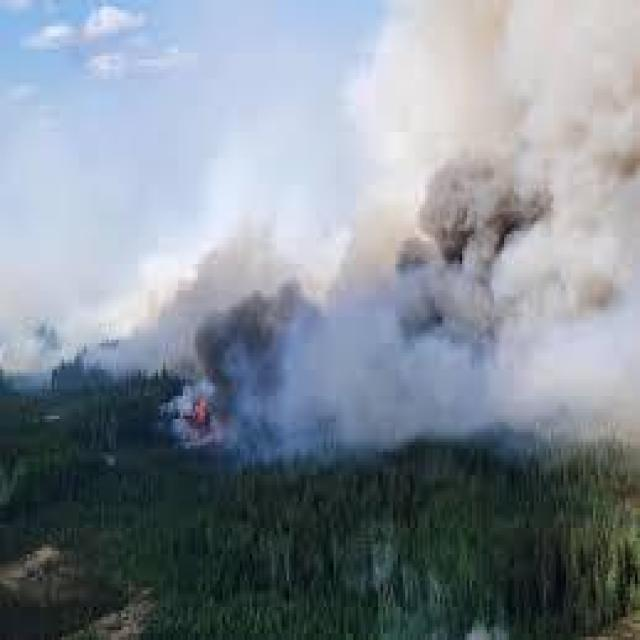Fire: (182, 393, 235, 439)
Smoke: (195, 3, 640, 449), (77, 260, 255, 373)
